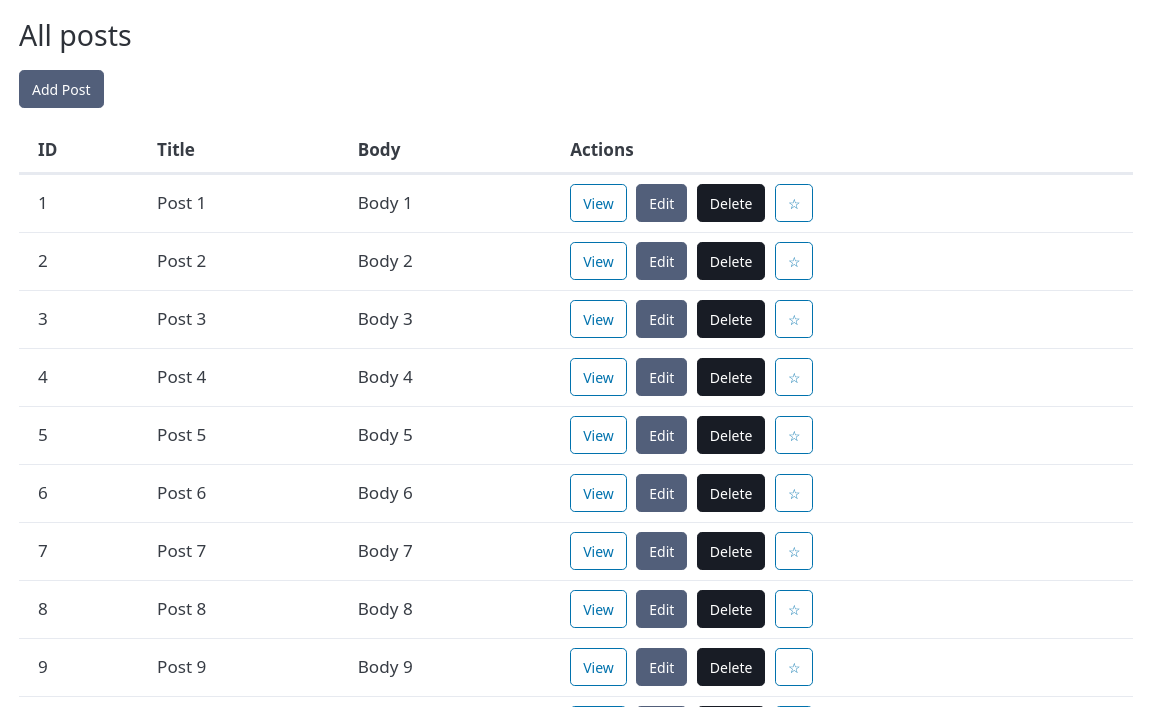
Test: PostsPage Component › Sorting › sorting by ID descending with column header on desktop
Check: the text "Post 1" is shown, box [138,175,339,232]
Click the column heading "ID" at (78, 150), box [19,127,138,173]
(page scrolled)
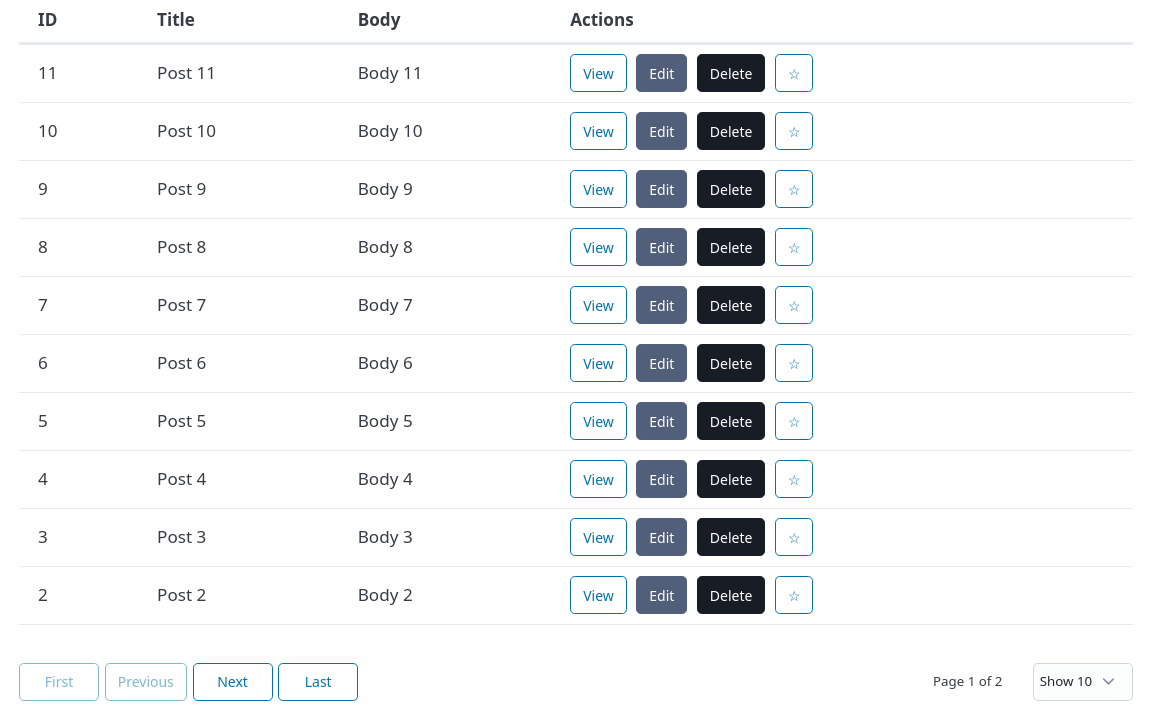
Check: the text "Post 2" is shown, box [138,566,339,624]
Check: the text "Post 11" is shown, box [138,45,339,102]
